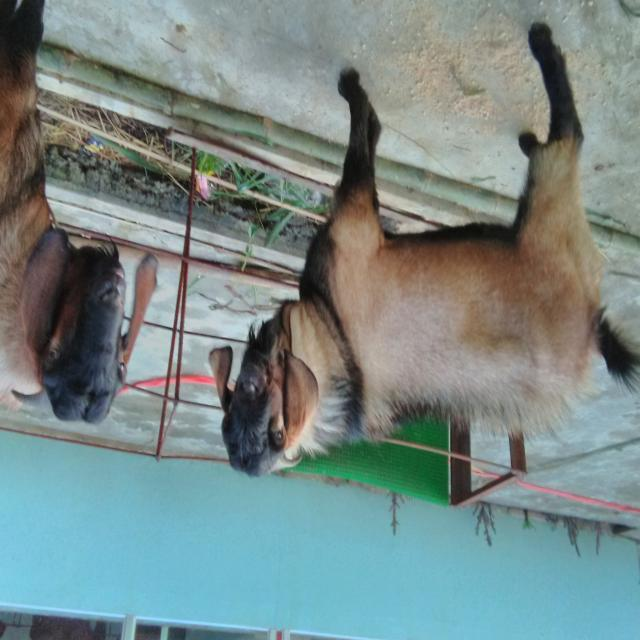Goat: (209, 24, 640, 481)
